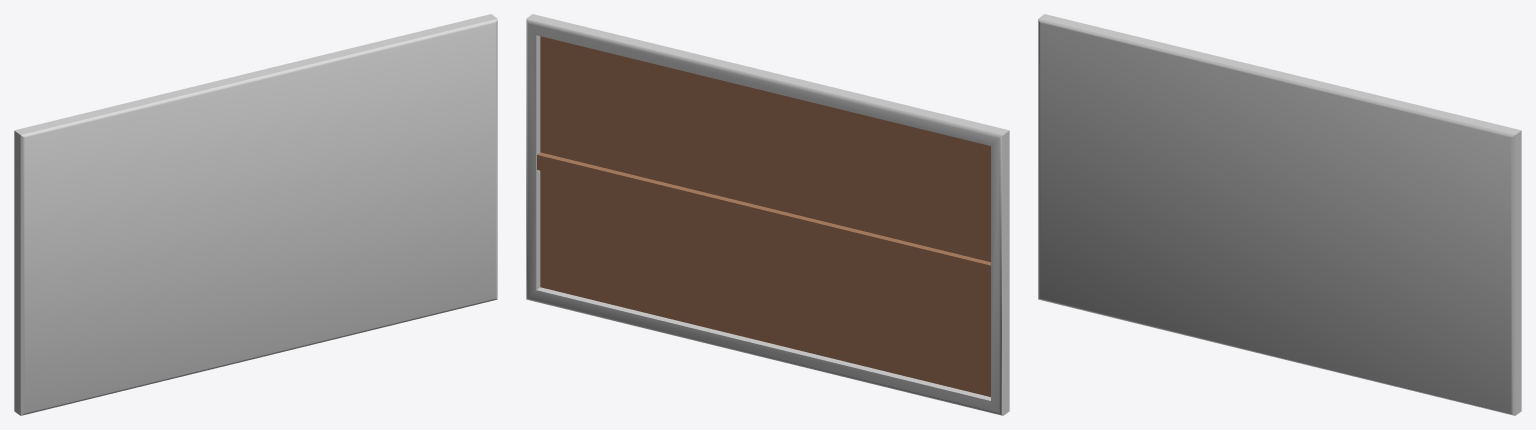
File: Canvas_01.fbx
3 views of the same model, side by side, from view 1: azimuth 30°, elevation 25°; view 2: azimuth 150°, elevation 25°; view 3: azimuth 330°, elevation 25° (orthographic).
Visible parts, largest first — view 1: Canvas_01; view 2: Canvas_01; view 3: Canvas_01.
Boxes of the visible parts, x1,y1,x2,y2 form: Canvas_01: (14,14,497,415); Canvas_01: (526,14,1009,415); Canvas_01: (1038,14,1521,415).
Bounding box in the file's own units: 160 × 90 × 5.
